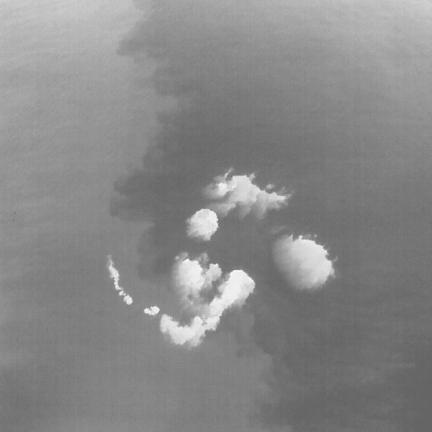flukeprints: (161, 270, 254, 346), (284, 236, 333, 288), (174, 258, 221, 300), (186, 208, 217, 240), (107, 256, 122, 291), (144, 305, 159, 315), (214, 184, 227, 195), (124, 294, 132, 305), (119, 290, 125, 295)
